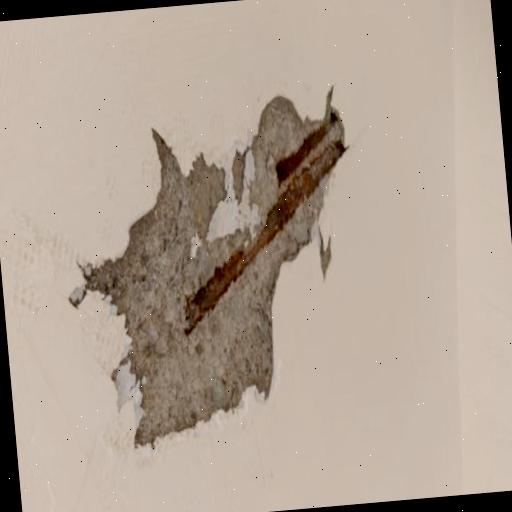spalling: (60, 82, 349, 455)
